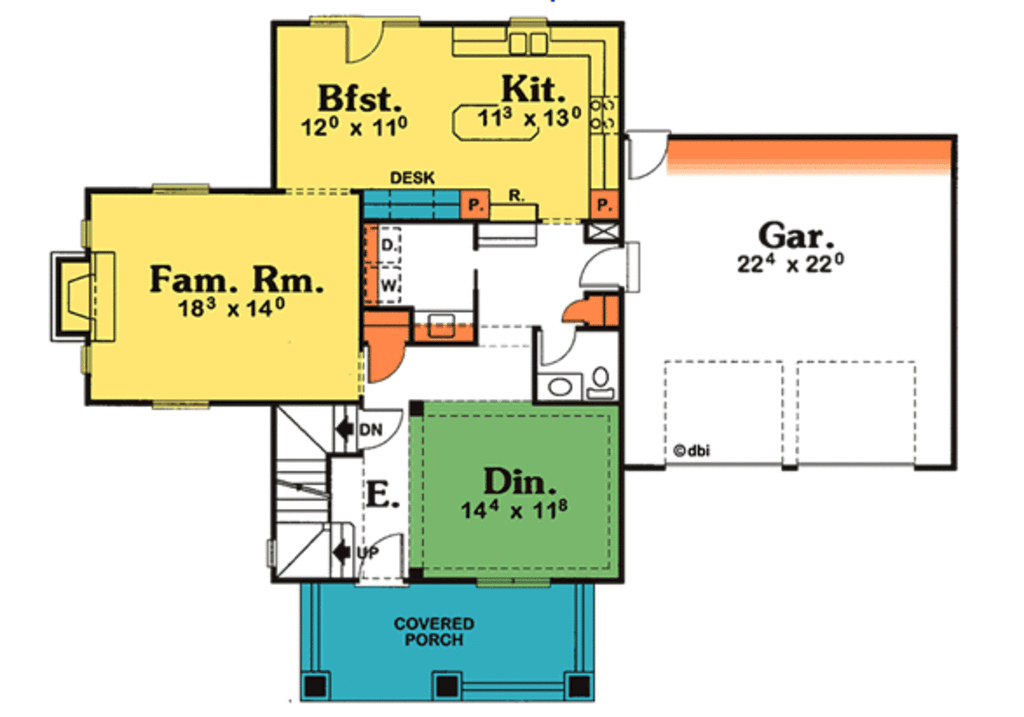door: (571, 235, 653, 290), (354, 525, 412, 588), (622, 118, 671, 184), (338, 15, 390, 66), (356, 400, 405, 454), (362, 335, 406, 383), (534, 324, 582, 366)
large_sink: (588, 363, 624, 403)
small_sink: (530, 364, 585, 403)
stairs: (275, 398, 358, 576)
twin_sink: (502, 23, 551, 66)
window: (144, 393, 216, 417), (145, 176, 217, 199), (477, 569, 546, 589), (76, 214, 94, 250)
